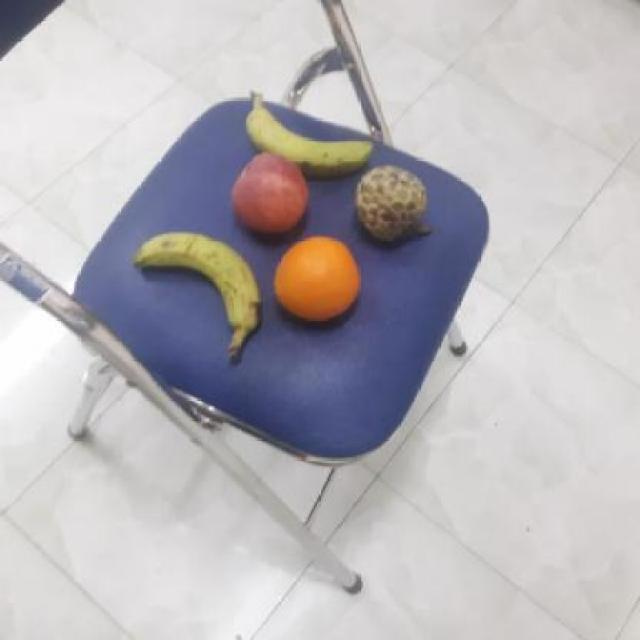apple: (227, 152, 311, 236)
banana: (132, 230, 263, 332), (238, 98, 375, 178)
oren: (269, 230, 363, 324)
sugar apple: (353, 161, 430, 241)
